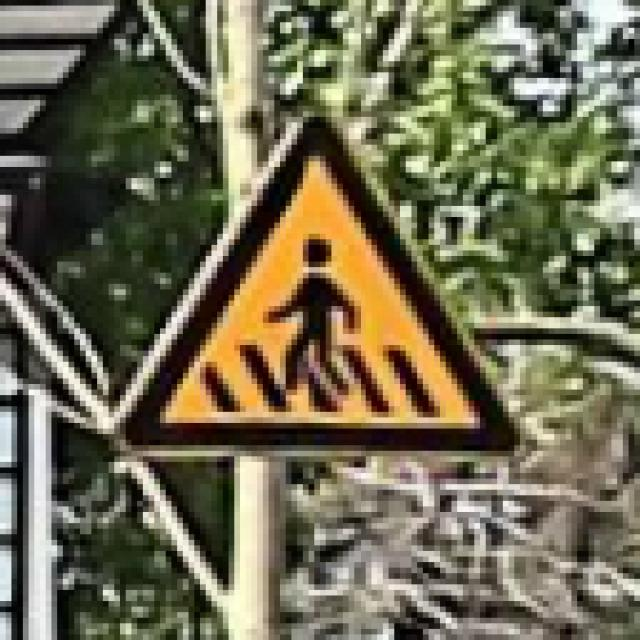Crossing: (95, 96, 557, 463)
